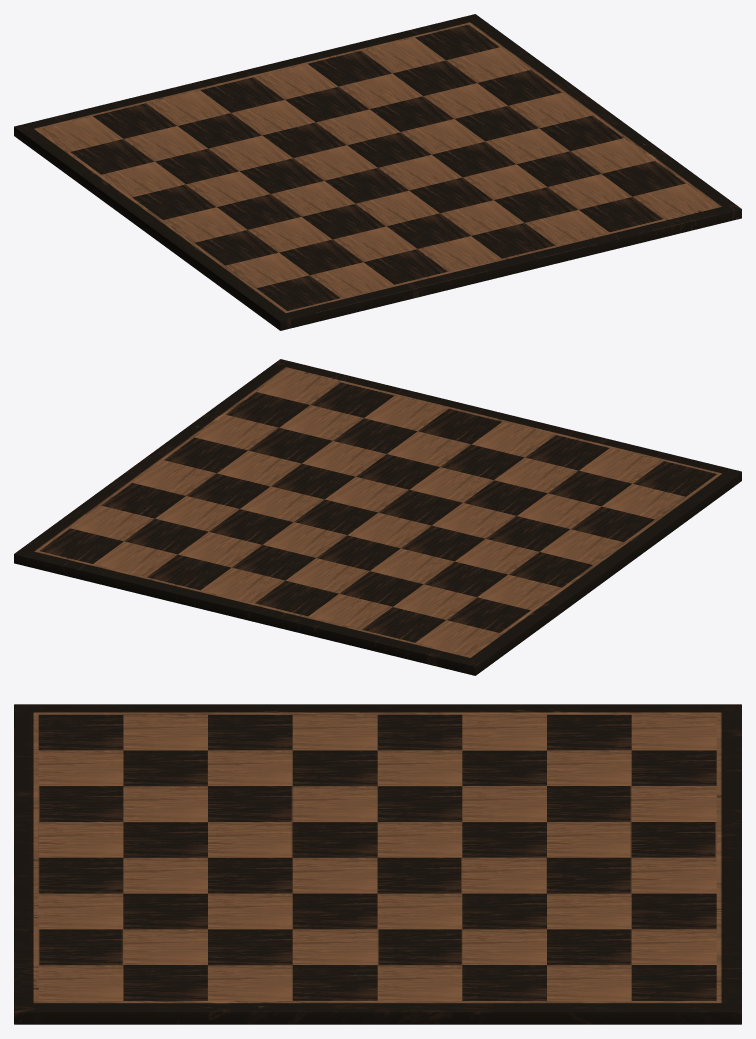
File: chess-0x-board.glb
The picture shows the model from 3 angles, top to bottom: view 1: azimuth 30°, elevation 25°; view 2: azimuth 150°, elevation 25°; view 3: azimuth 270°, elevation 25°; orthographic projection. The views are drawn at different scales.
Parts seen in each view (by area): view 1: chess-board, h4, b2, b5, b6, b7, c1, c2, d8, e3, h7, a6 (+53 smaller); view 2: chess-board, b2, b3, b4, c5, c8, d7, f2, f3, f6, g8, b1 (+53 smaller); view 3: chess-board, a4, a8, e4, e8, a1, a5, e1, e5, f4, f8, f1 (+53 smaller).
Part boxes in pixels (<box>): chess-board: <box>14,14,741,330</box>; h4: <box>539,115,623,150</box>; b2: <box>279,239,362,275</box>; b5: <box>186,171,269,206</box>; b6: <box>155,148,238,184</box>; b7: <box>124,126,207,161</box>; c1: <box>363,249,447,284</box>; c2: <box>333,226,416,261</box>; d8: <box>200,77,284,112</box>; e3: <box>409,177,493,212</box>; h7: <box>446,47,530,82</box>; a6: <box>101,162,184,197</box>; chess-board: <box>14,359,741,675</box>; b2: <box>548,470,632,506</box>; b3: <box>517,493,601,529</box>; b4: <box>486,516,570,551</box>; c5: <box>401,525,485,561</box>; c8: <box>308,594,392,629</box>; d7: <box>285,558,369,593</box>; f2: <box>333,418,417,453</box>; f3: <box>302,441,386,476</box>; f6: <box>209,509,293,544</box>; g8: <box>93,541,177,577</box>; b1: <box>579,448,663,483</box>; chess-board: <box>14,704,741,1024</box>; a4: <box>292,714,377,750</box>; a8: <box>631,714,716,750</box>; e4: <box>292,857,377,893</box>; e8: <box>631,857,716,893</box>; a1: <box>38,714,123,750</box>; a5: <box>377,714,462,750</box>; e1: <box>38,857,123,893</box>; e5: <box>377,857,462,893</box>; f4: <box>292,893,377,929</box>; f8: <box>631,893,716,929</box>; f1: <box>38,893,123,929</box>.
Size of the model in its own units: 0.5 by 0.01 by 0.5.
3 materials, 3 textured.
